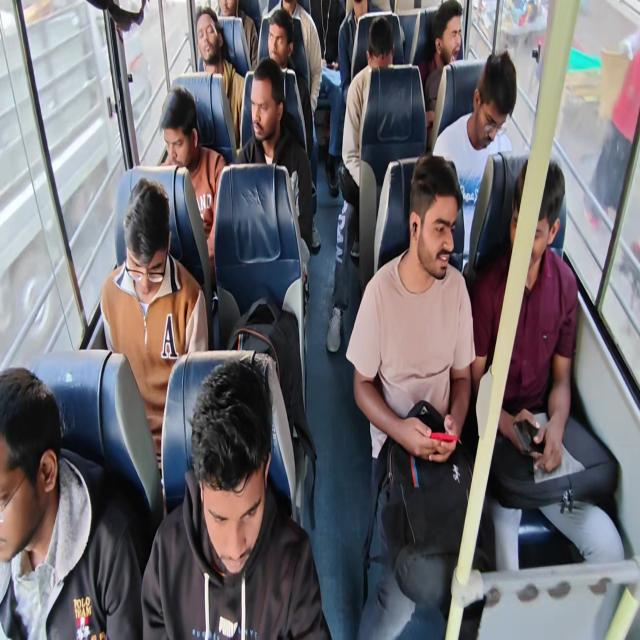person: (171, 375, 296, 640), (382, 146, 494, 434), (497, 151, 617, 367), (124, 191, 221, 421), (0, 408, 60, 639), (159, 83, 226, 211), (462, 53, 525, 184), (242, 46, 292, 154), (306, 0, 356, 87), (194, 15, 238, 81), (370, 17, 404, 93), (422, 5, 462, 61), (261, 13, 293, 70), (212, 0, 260, 30), (278, 0, 304, 26), (344, 0, 382, 16)
